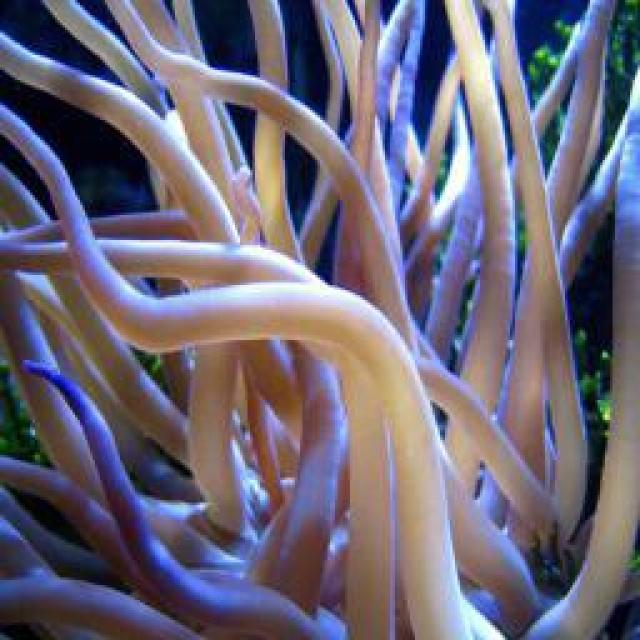reefs: (0, 0, 638, 638)
